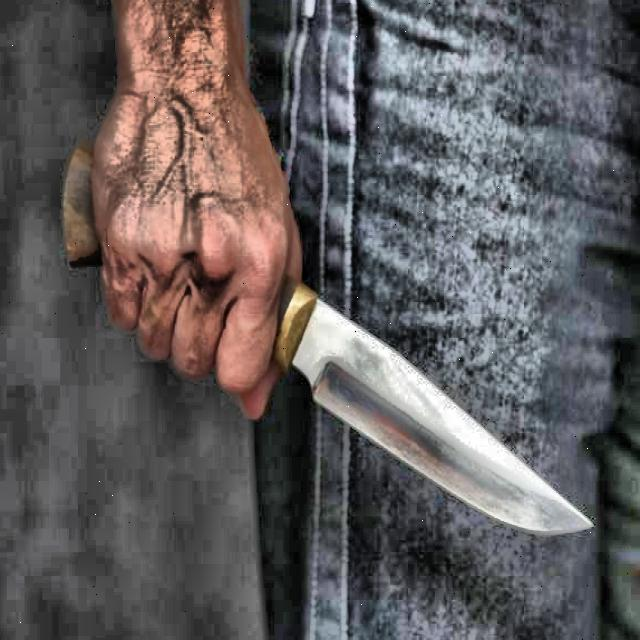knife: (63, 150, 594, 535)
